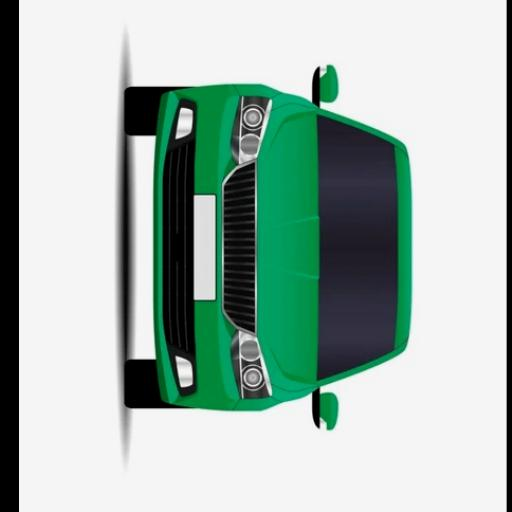hatchback: (125, 68, 412, 431)
